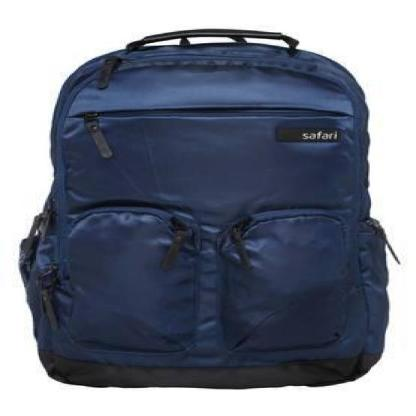bag: (19, 19, 399, 396)
